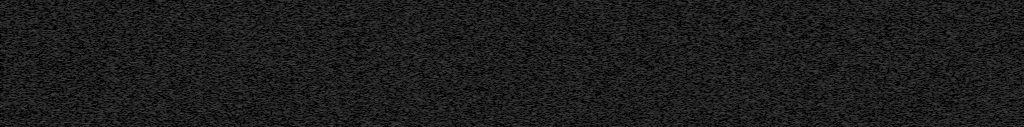wv_am: (488, 0, 502, 127)
wv_cw: (236, 0, 240, 124)
wv_usb: (157, 2, 167, 127)
wv_wbfm: (200, 0, 217, 127)
